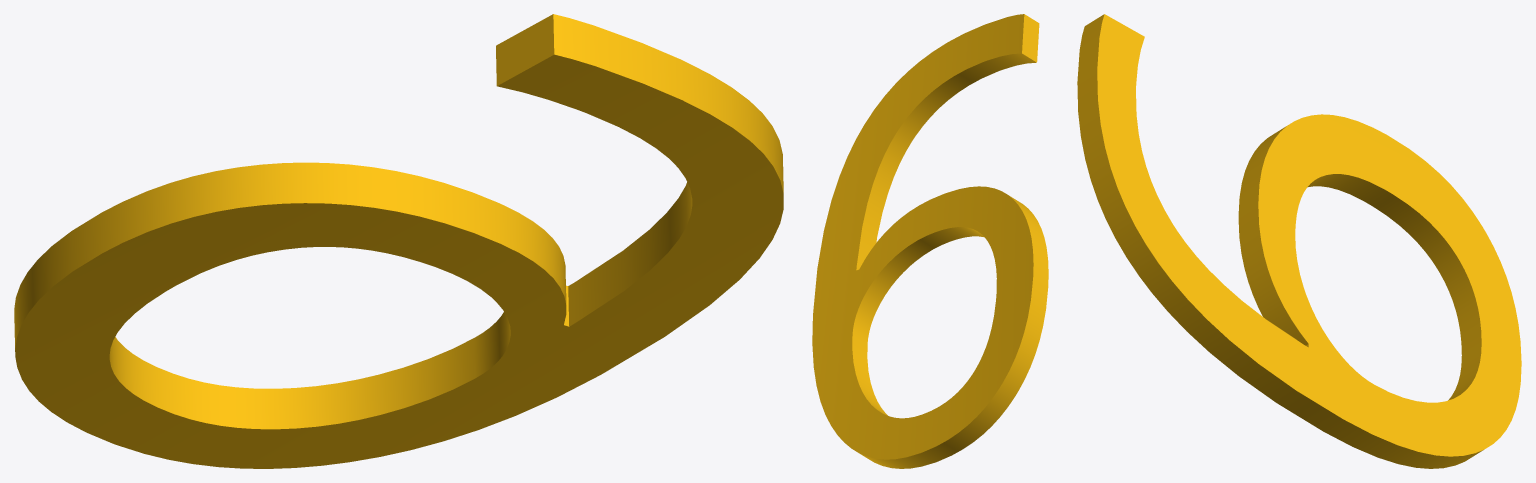
File: Number_6.gltf
3 renders of one model, left to right at view 1: azimuth 30°, elevation 25°; view 2: azimuth 150°, elevation 25°; view 3: azimuth 270°, elevation 25°, orthographic. The views are drawn at different scales.
Parts seen in each view (by area): view 1: Sub_5_Cell_2_2_Number_6; view 2: Sub_5_Cell_2_2_Number_6; view 3: Sub_5_Cell_2_2_Number_6.
Part boxes in pixels (x1,y1,x2,y2): Sub_5_Cell_2_2_Number_6: (14,14,783,468); Sub_5_Cell_2_2_Number_6: (812,14,1048,468); Sub_5_Cell_2_2_Number_6: (1077,14,1521,468).
Bounding box in the file's own units: 0.0182 × 0.0208 × 0.0193.
